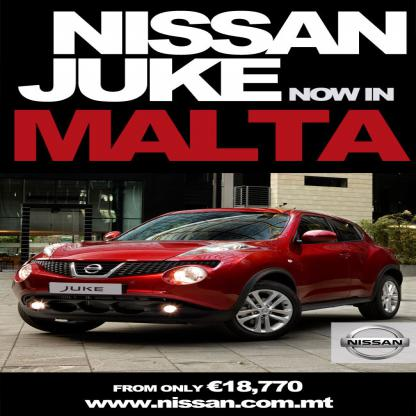Vehicle: (11, 202, 408, 344)
